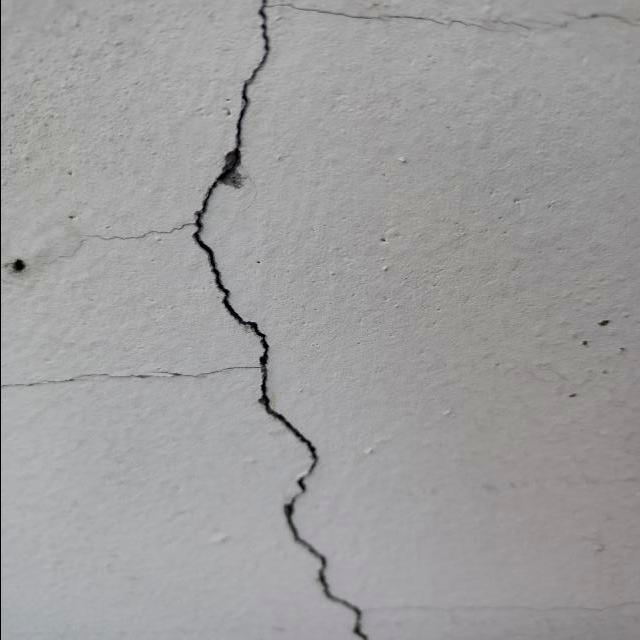SurfaceCrack: (167, 0, 390, 630)
